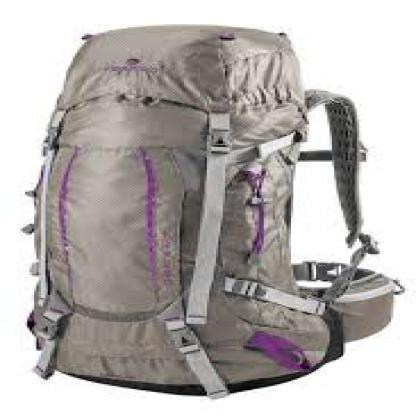morral: (16, 14, 414, 404)
